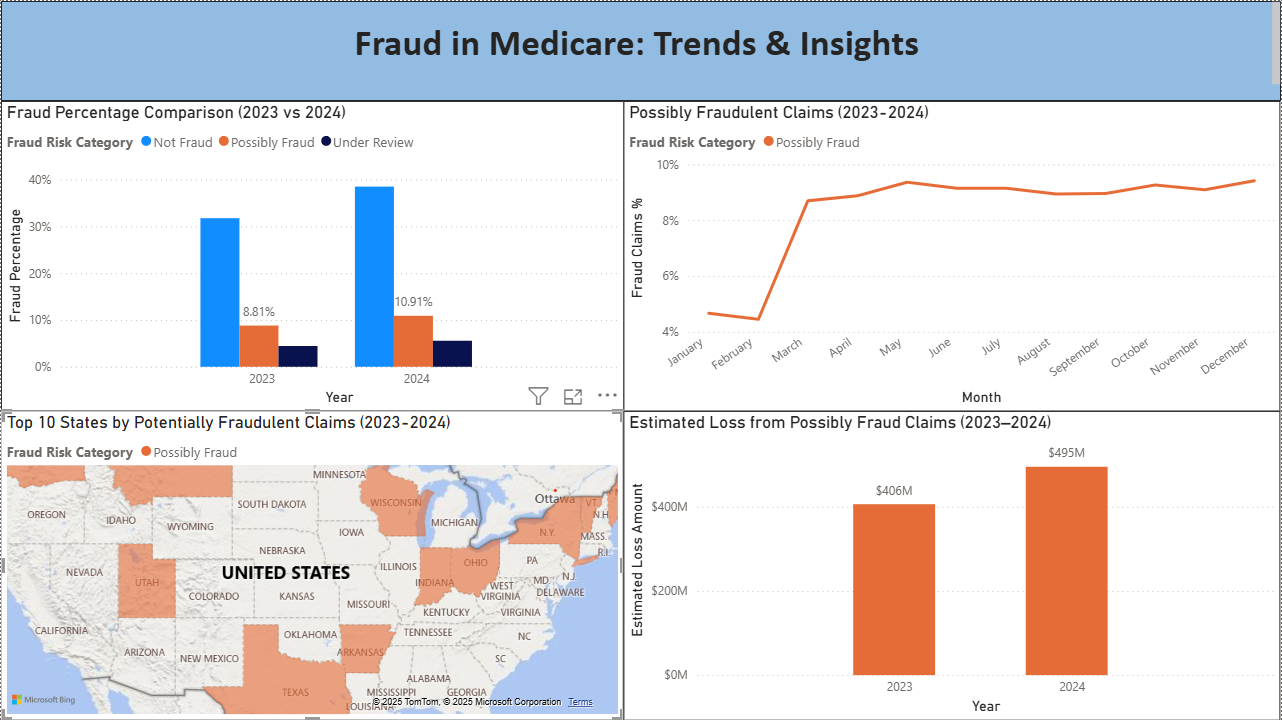

What the dashboard file says about the page in this screenshot:
{"tool":"powerbi","page":{"name":"Fraud Overview Dashboard","canvas":[1280,720],"ordinal":0},"visuals":[{"type":"textbox","box":[0,0,1280,99.8],"z":1000},{"type":"clusteredColumnChart","title":"Fraud Percentage Comparison (2023 vs 2024)","fields":{"Y":["Sum(claims.claim_id)"],"Category":["claims.claim_date.Variation.Date Hierarchy.Year","claims.claim_date.Variation.Date Hierarchy.Quarter","claims.claim_date.Variation.Date Hierarchy.Month","claims.claim_date.Variation.Date Hierarchy.Day"],"Series":["claims.FraudRiskStatus"]},"box":[0,99.8,622.9,310.7],"z":2000},{"type":"lineChart","title":"Possibly Fraudulent Claims (2023-2024)","fields":{"Y":["Sum(claims.claim_id)"],"Category":["claims.claim_date.Variation.Date Hierarchy.Year","claims.claim_date.Variation.Date Hierarchy.Quarter","claims.claim_date.Variation.Date Hierarchy.Month","claims.claim_date.Variation.Date Hierarchy.Day"],"Series":["claims.FraudRiskStatus"]},"box":[622.9,99.8,657.1,310.7],"z":3000},{"type":"filledMap","title":"Top 10 States by Potentially Fraudulent Claims (2023-2024)","fields":{"Category":["providers.state"],"Series":["claims.FraudRiskStatus"]},"box":[0,410.5,622.9,309.3],"z":4000},{"type":"columnChart","title":"Estimated Loss from Possibly Fraud Claims (2023–2024)","fields":{"Category":["claims.claim_date.Variation.Date Hierarchy.Year","claims.claim_date.Variation.Date Hierarchy.Quarter","claims.claim_date.Variation.Date Hierarchy.Month","claims.claim_date.Variation.Date Hierarchy.Day"],"Y":["claims.EstimatedLoss"]},"box":[622.9,410.5,657.1,309.3],"z":5000}]}

Visuals, with their boxes in screenshot pixels (x1, y1, x2, y2), scaled from the page's 1280x720 canvas onto the 1282x720 screenshot:
textbox: 0 0 1281 100
"Fraud Percentage Comparison (2023 vs 2024)" clusteredColumnChart: 0 100 624 410
"Possibly Fraudulent Claims (2023-2024)" lineChart: 624 100 1281 410
"Top 10 States by Potentially Fraudulent Claims (2023-2024)" filledMap: 0 410 624 719
"Estimated Loss from Possibly Fraud Claims (2023–2024)" columnChart: 624 410 1281 719
